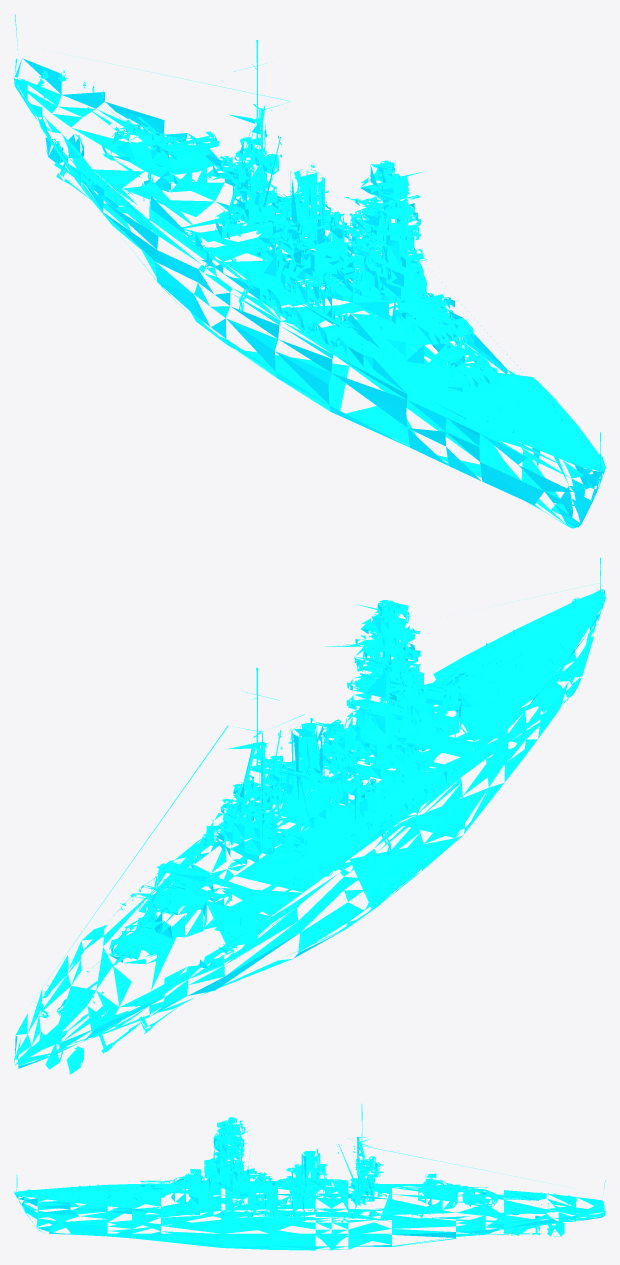
File: Nagato.glb
3 views of the same model, one above another, from view 1: azimuth 30°, elevation 25°; view 2: azimuth 150°, elevation 25°; view 3: azimuth 270°, elevation 25° (orthographic). The views are drawn at different scales.
Size of the model in its own units: 2.29 by 3.65 by 15.01.
